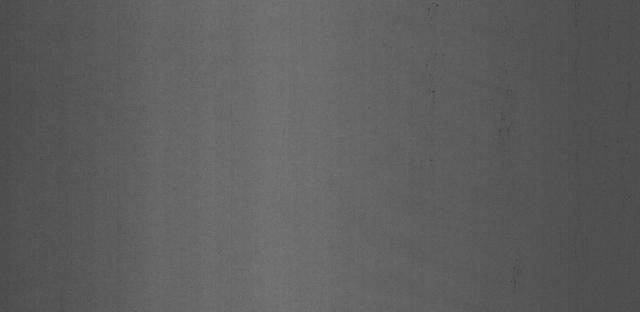inclusion: (422, 64, 441, 110)
